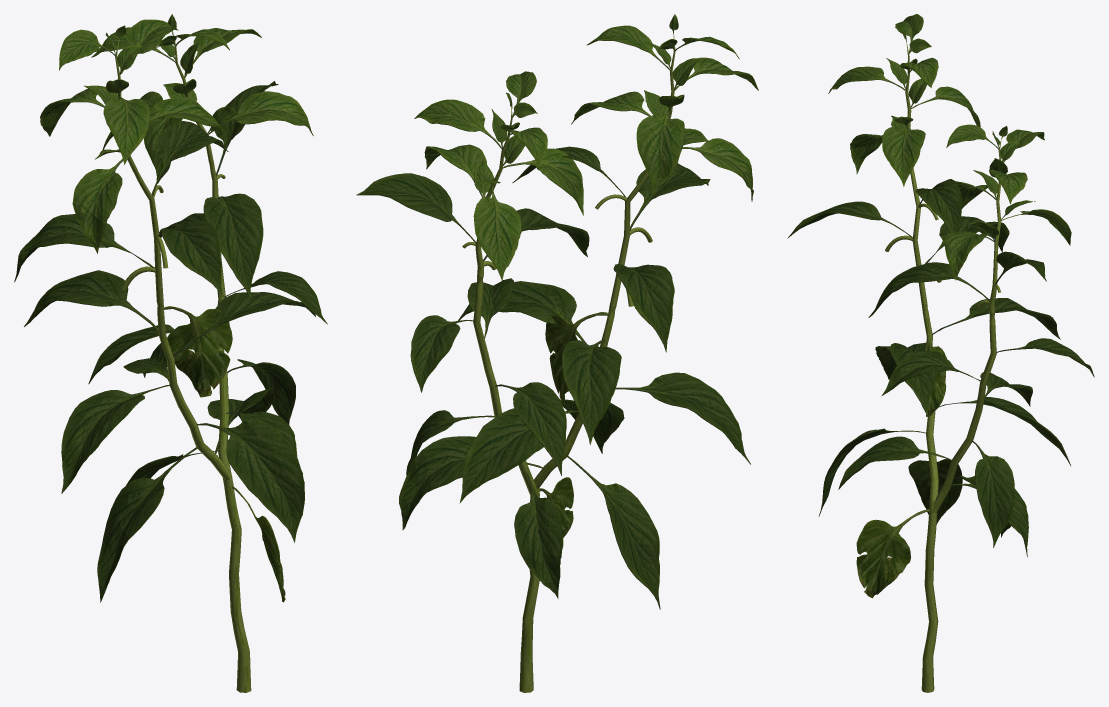
File: VG07_5_without_fruit.dae
The picture shows the model from 3 angles, left to right: view 1: azimuth 30°, elevation 25°; view 2: azimuth 150°, elevation 25°; view 3: azimuth 270°, elevation 25°; orthographic projection. The views are drawn at different scales.
Visible parts, largest first — view 1: VG07_024; view 2: VG07_024; view 3: VG07_024.
Part boxes in pixels (x1=…): VG07_024: x1=14, y1=14, x2=327, y2=692; VG07_024: x1=356, y1=14, x2=758, y2=692; VG07_024: x1=787, y1=14, x2=1094, y2=692.
Size of the model in its own units: 0.5033 by 0.5059 by 1.1.
Materials: 4 (4 with a texture image).
